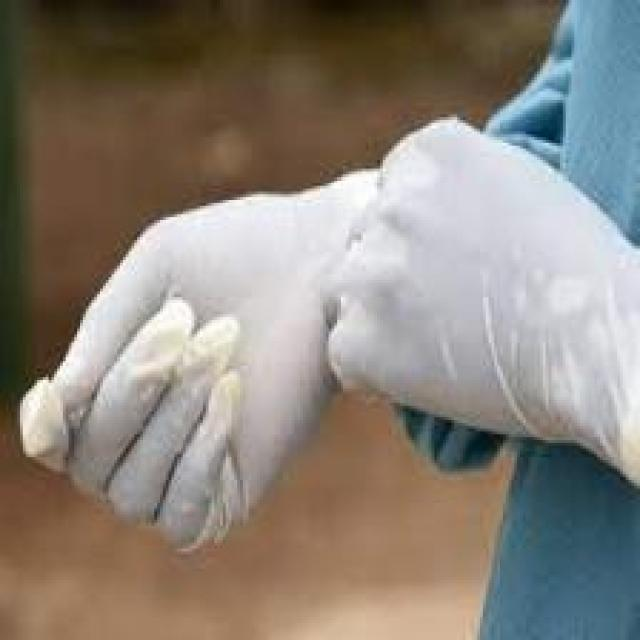Glove: (9, 90, 640, 564)
